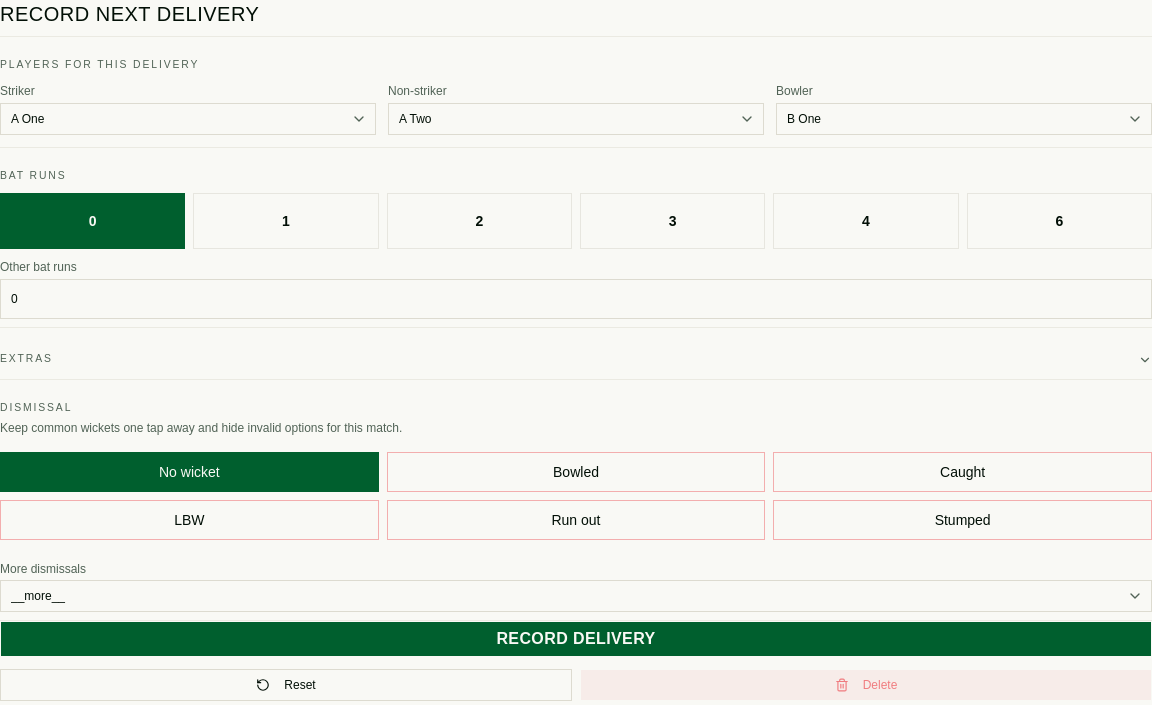
Test: ScoreABall › only exposes extras that are enabled for the match
What coordinates should you click on to do the following:
click the button "Extras"
I would click on:
 (26, 359)
Its box is [0,348,1151,371].
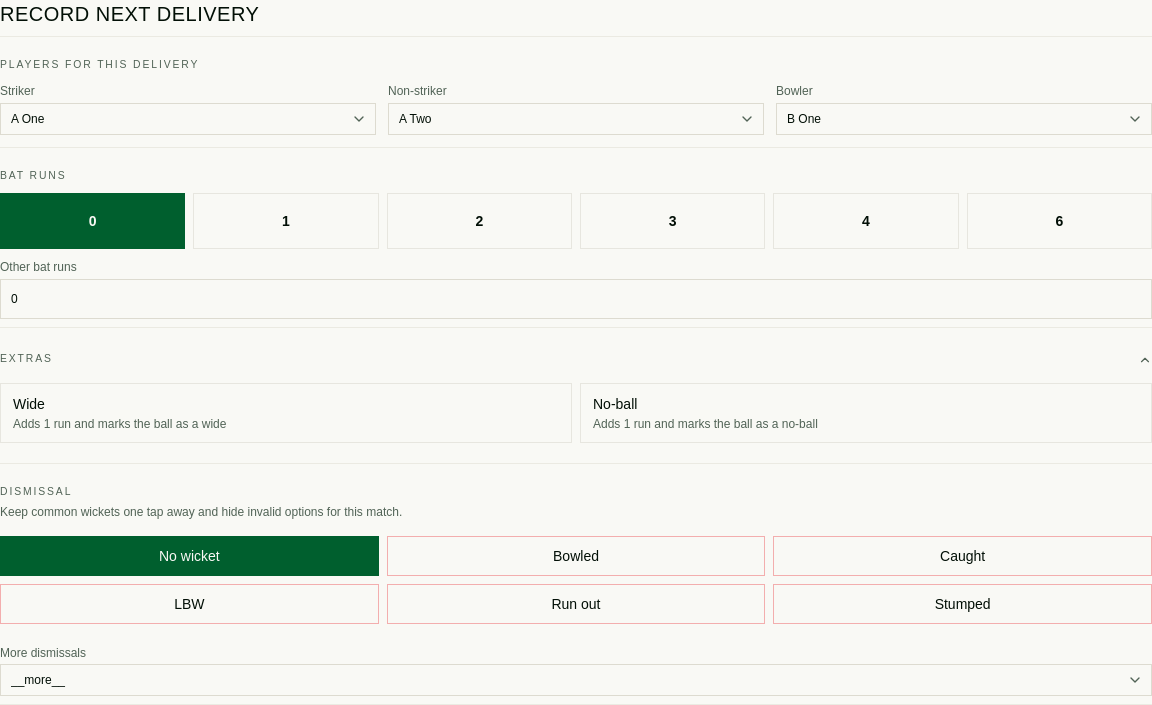
Now the text "Wide" is shown, box [13,394,45,414]
Now the text "No-ball" is shown, box [593,394,637,414]
